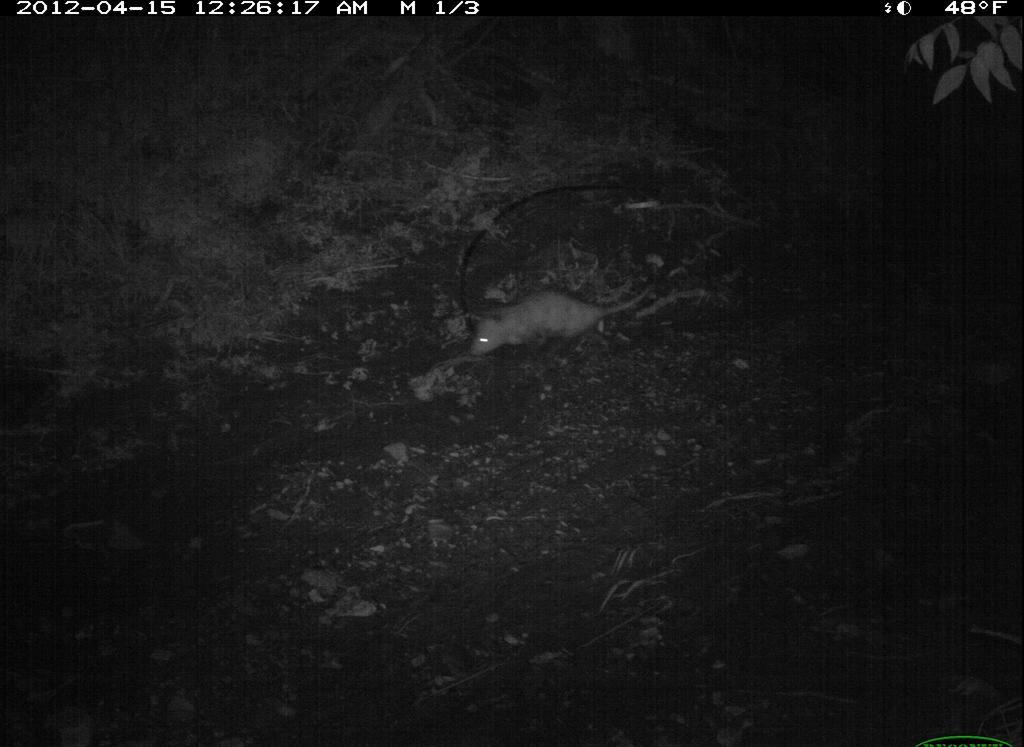opossum: (457, 274, 667, 365)
